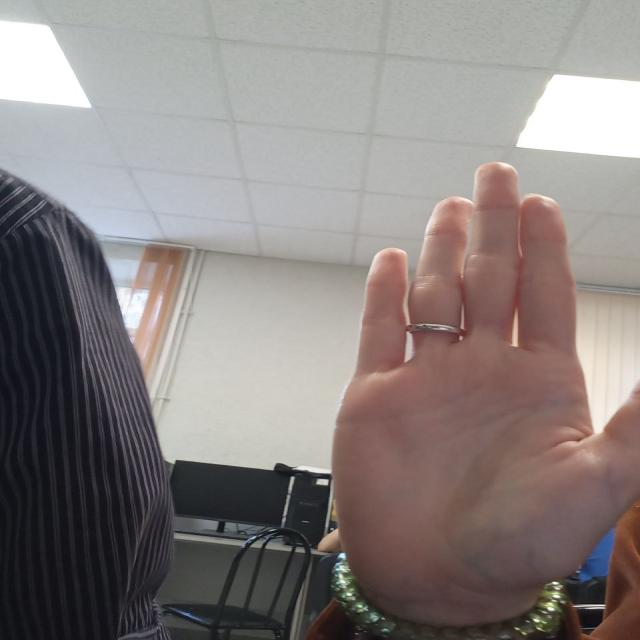v: (302, 165, 616, 603)
